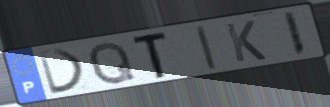D: (36, 48, 88, 97)
I: (281, 9, 309, 58), (194, 23, 220, 72)
K: (223, 18, 269, 64)
Q: (87, 40, 138, 86)
T: (131, 29, 170, 81)
